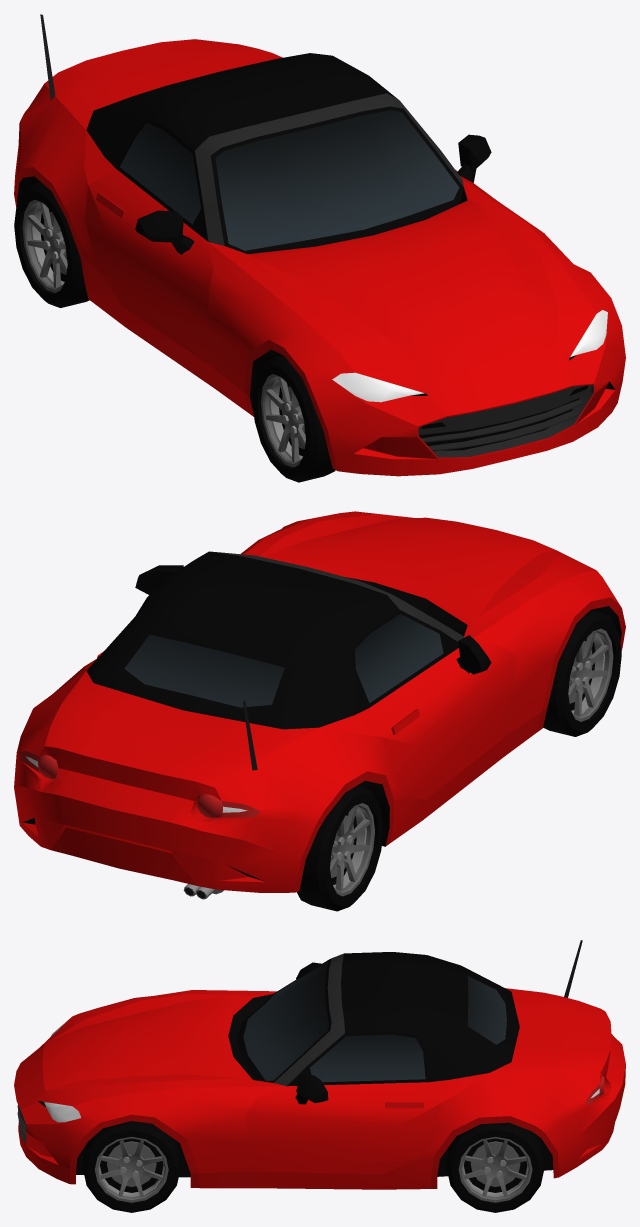
The picture shows the model from 3 angles, top to bottom: view 1: azimuth 30°, elevation 25°; view 2: azimuth 150°, elevation 25°; view 3: azimuth 270°, elevation 25°; orthographic projection. The views are drawn at different scales.
Parts seen in each view (by area): view 1: Body, FR, RR; view 2: Body, RR, FR; view 3: Body, FL, RL.
Part boxes in pixels (left/top/right/bottom): Body: left=14, top=14, right=625, bottom=476; FR: left=252, top=355, right=335, bottom=482; RR: left=14, top=182, right=89, bottom=307; Body: left=14, top=511, right=625, bottom=899; RR: left=297, top=785, right=383, bottom=911; FR: left=543, top=610, right=621, bottom=736; Body: left=14, top=940, right=625, bottom=1189; FL: left=83, top=1121, right=180, bottom=1212; RL: left=446, top=1122, right=544, bottom=1212.
Size of the model in its own units: 1.98 by 1.28 by 3.94.
3 materials, 3 textured.
